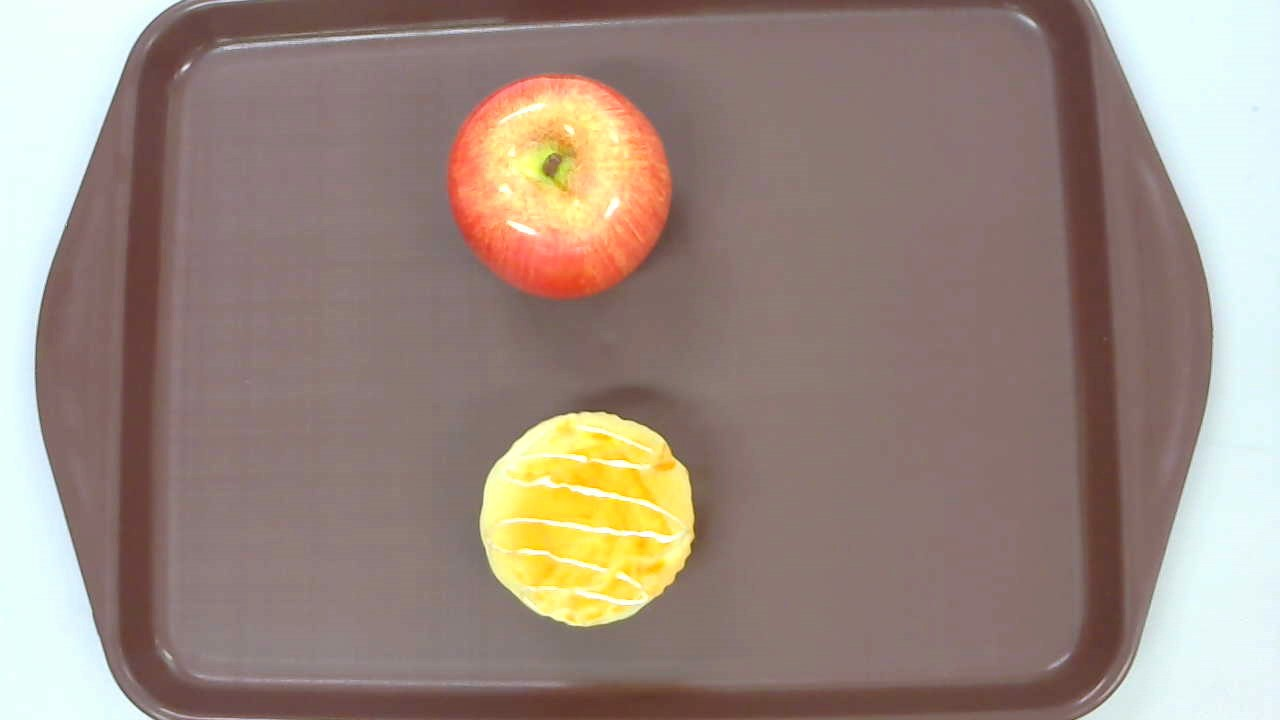cupcake: (479, 411, 695, 626)
red apple: (445, 73, 671, 300)
